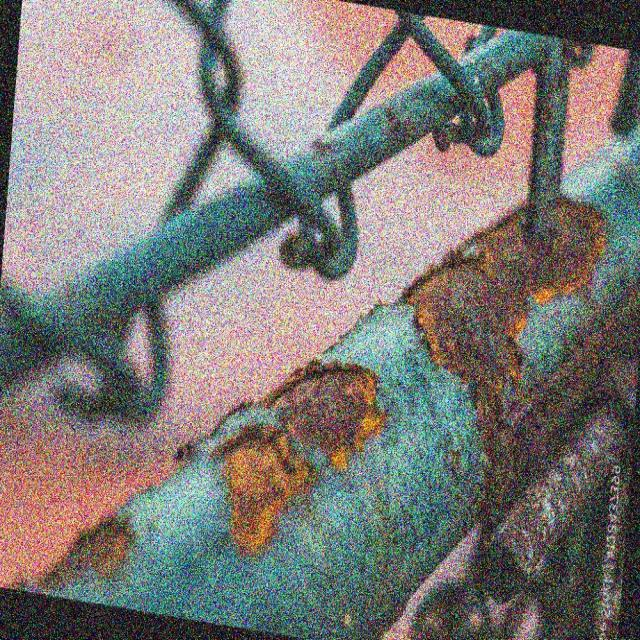rust: (162, 315, 397, 589), (395, 169, 610, 442), (474, 382, 613, 624)
